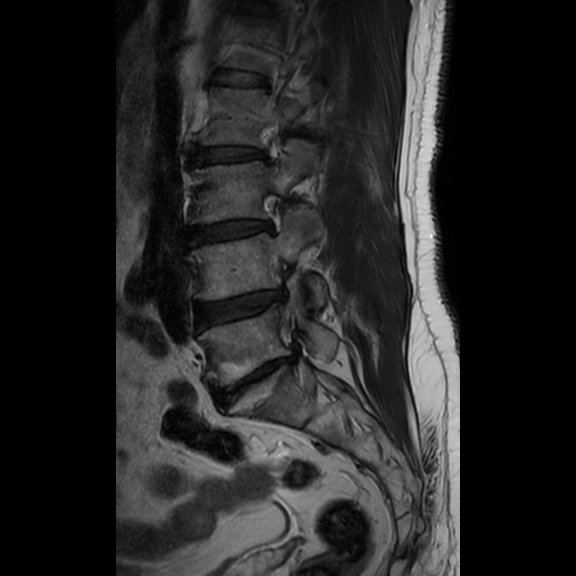RFS0: (247, 183, 296, 248)
